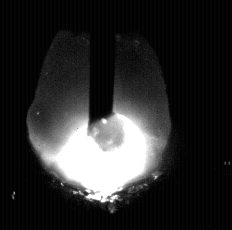arame: (89, 0, 115, 127)
poca: (26, 0, 173, 230)
